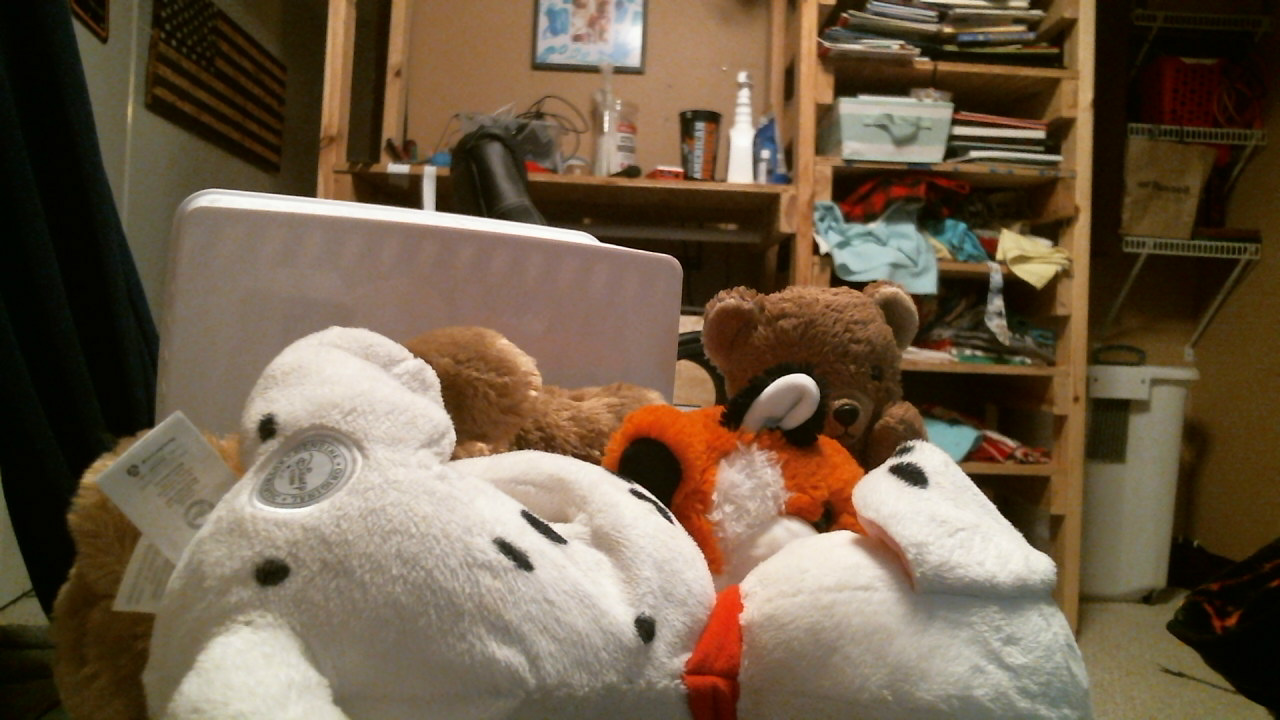Little_Mister_Bear: (827, 363, 895, 443)
